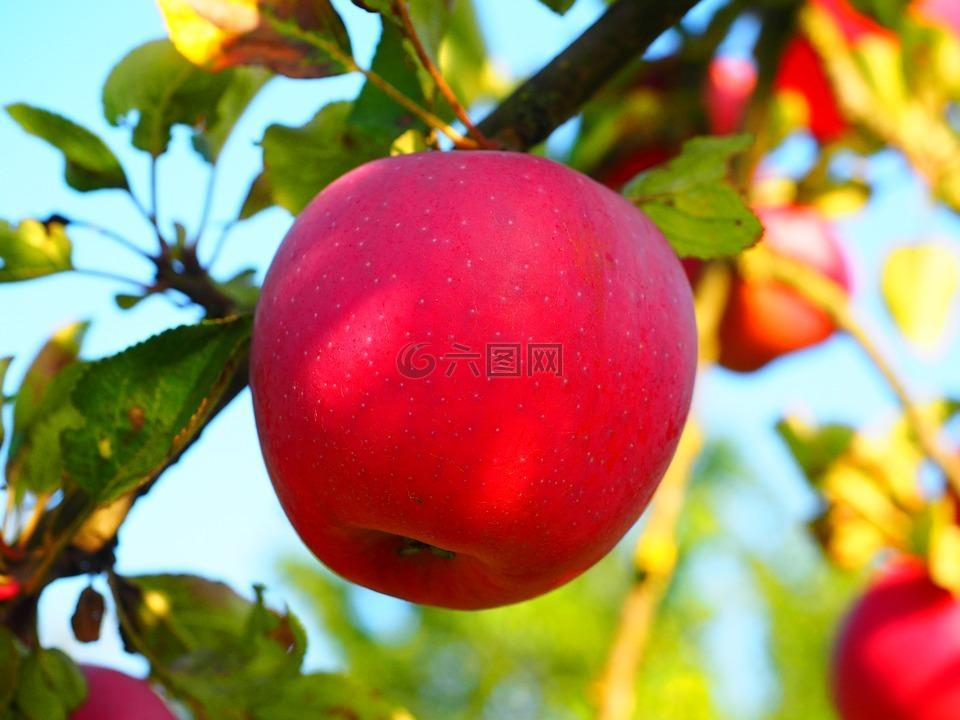apple: (243, 149, 698, 601)
